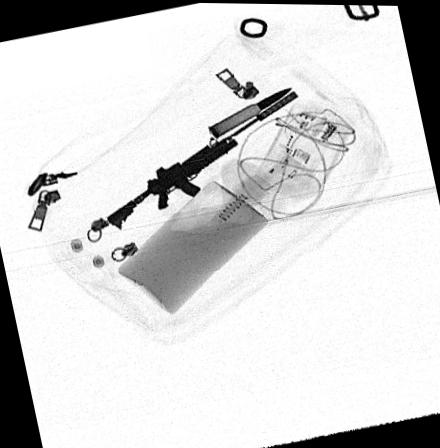Bullet: (208, 86, 293, 137)
Gun: (103, 89, 298, 228)
